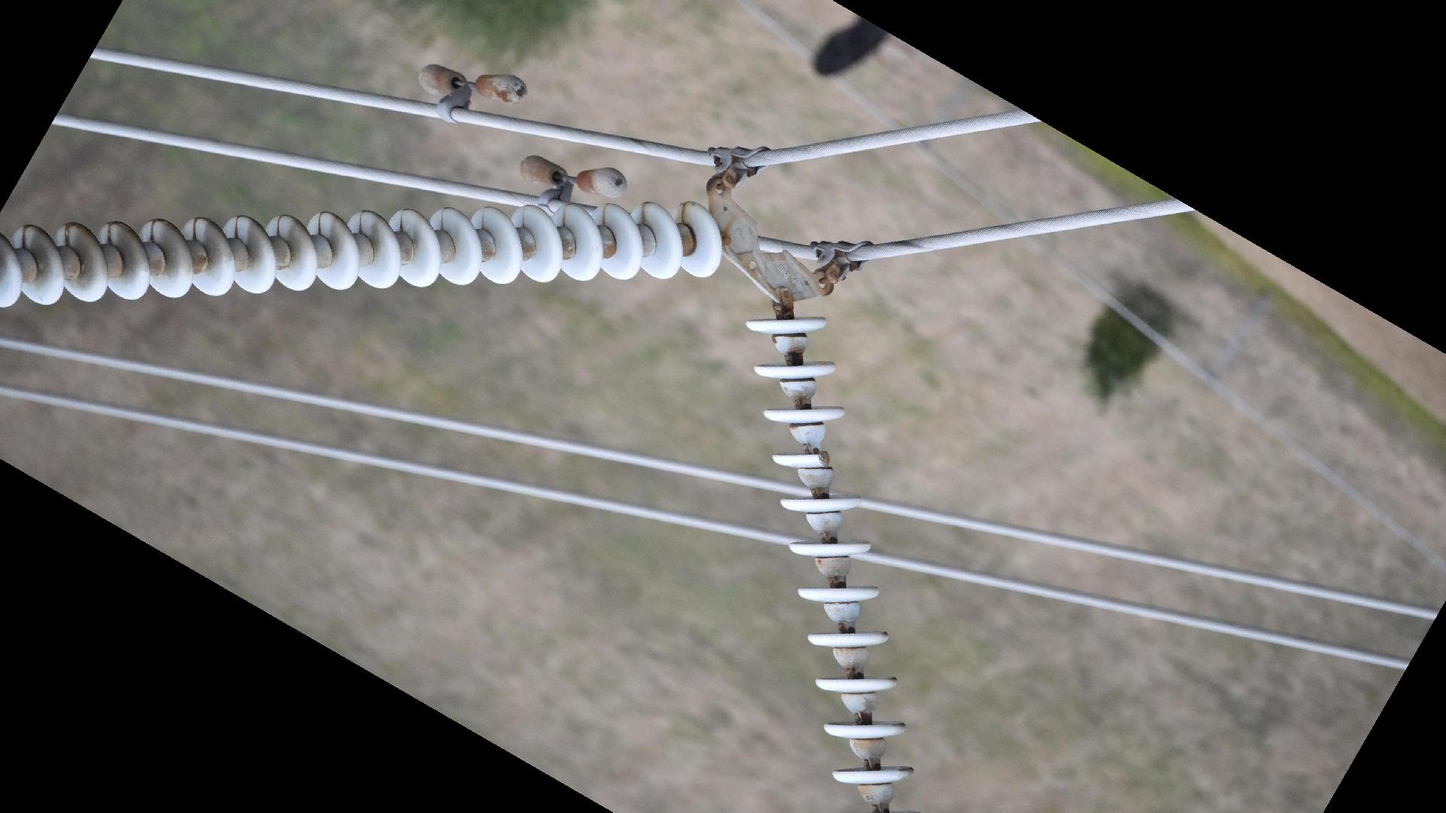insulator: (1, 193, 734, 315), (740, 308, 920, 796)
insulator_breakage: (803, 449, 840, 472)
